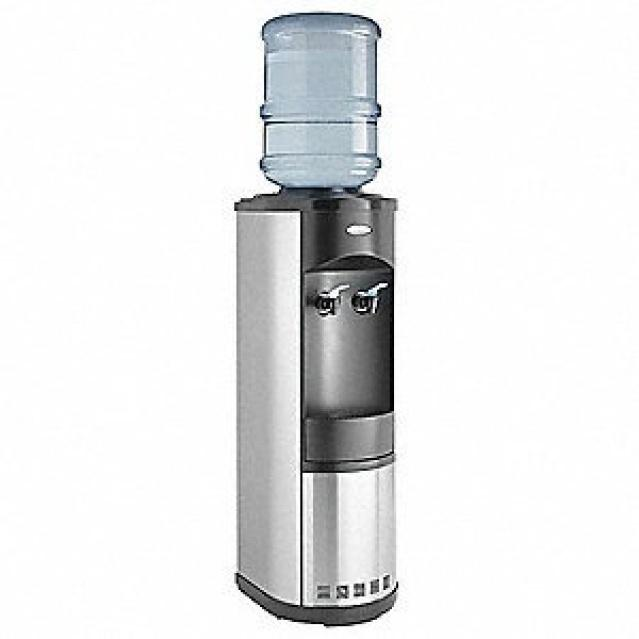Dispenser: (233, 11, 398, 625)
